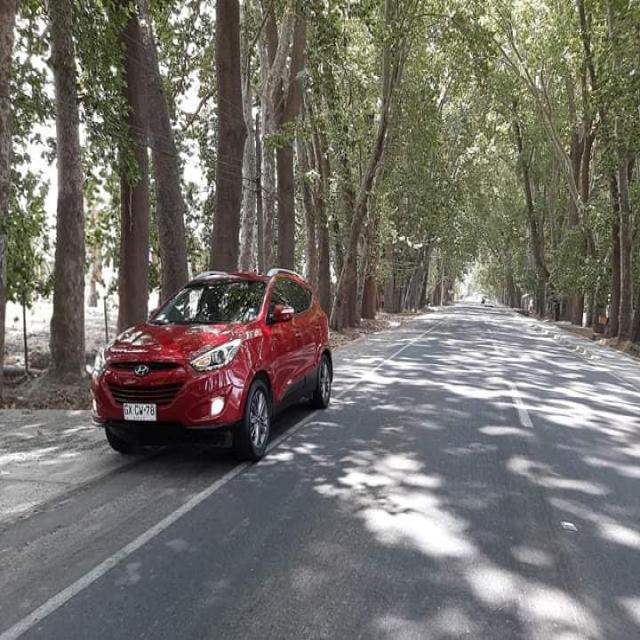patente: (122, 400, 156, 420)
